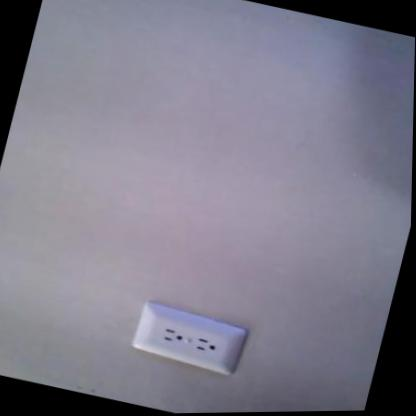OUTLET: (131, 306, 243, 371)
